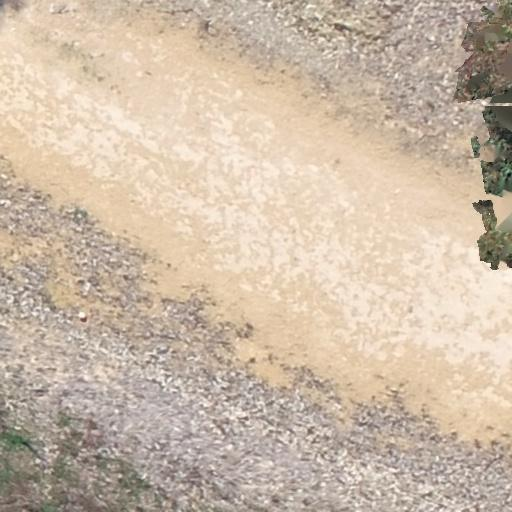stone: (76, 306, 86, 320)
